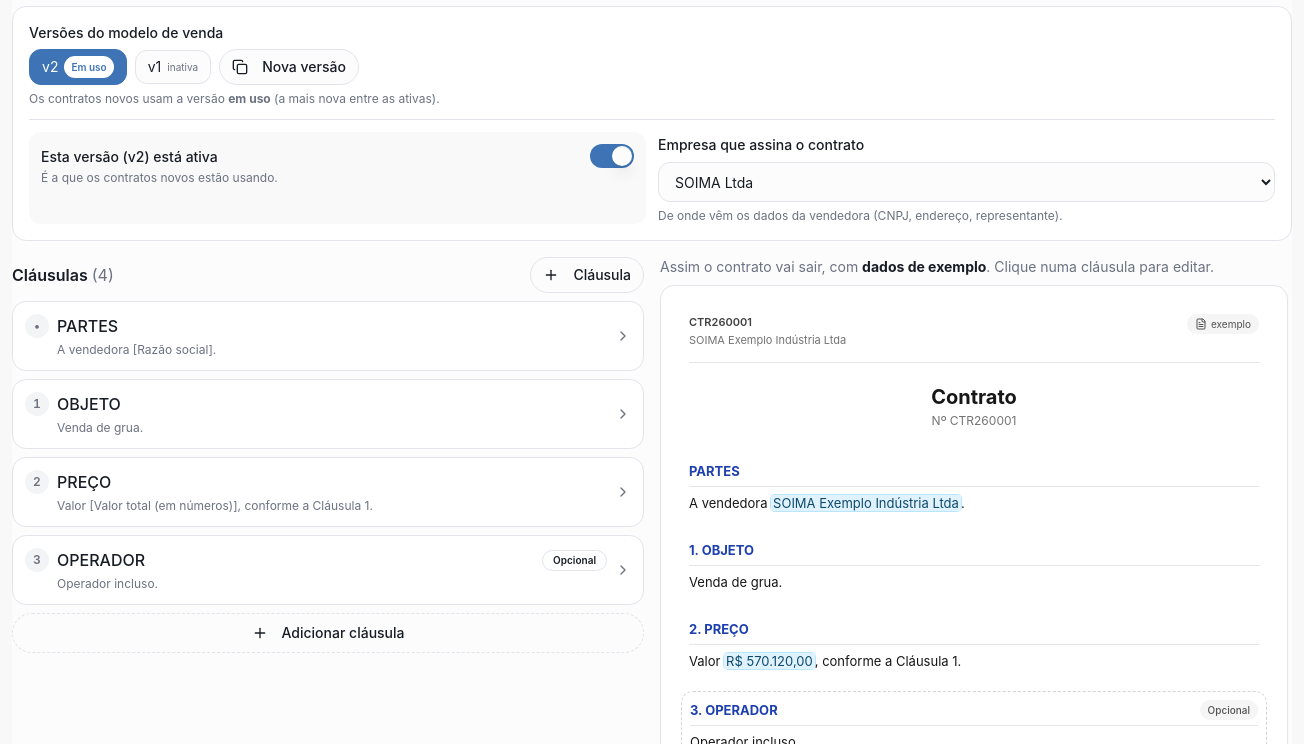
Test: editor do modelo — editar e salvar › mudar a ordem avisa sobre textos que citam cláusulas por número
The image size is (1304, 744).
Expected: the heading "Cláusulas (4)" is shown, [12, 263, 114, 287]
Step 1. Click the button with aria-label "Editar cláusula 1. OBJETO" → (89, 404), box [13, 380, 643, 448]
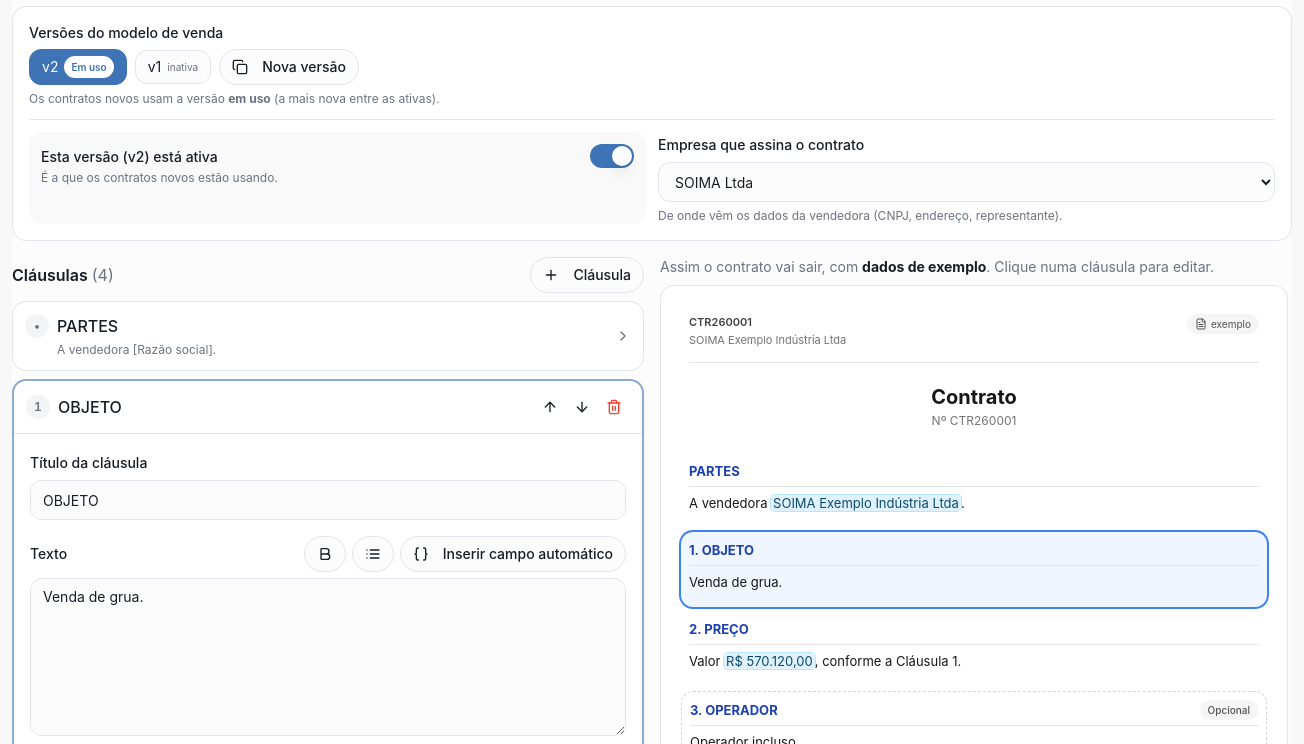
Step 2. Click the button named "Subir cláusula" → (550, 407), box [534, 391, 566, 423]
(page scrolled)
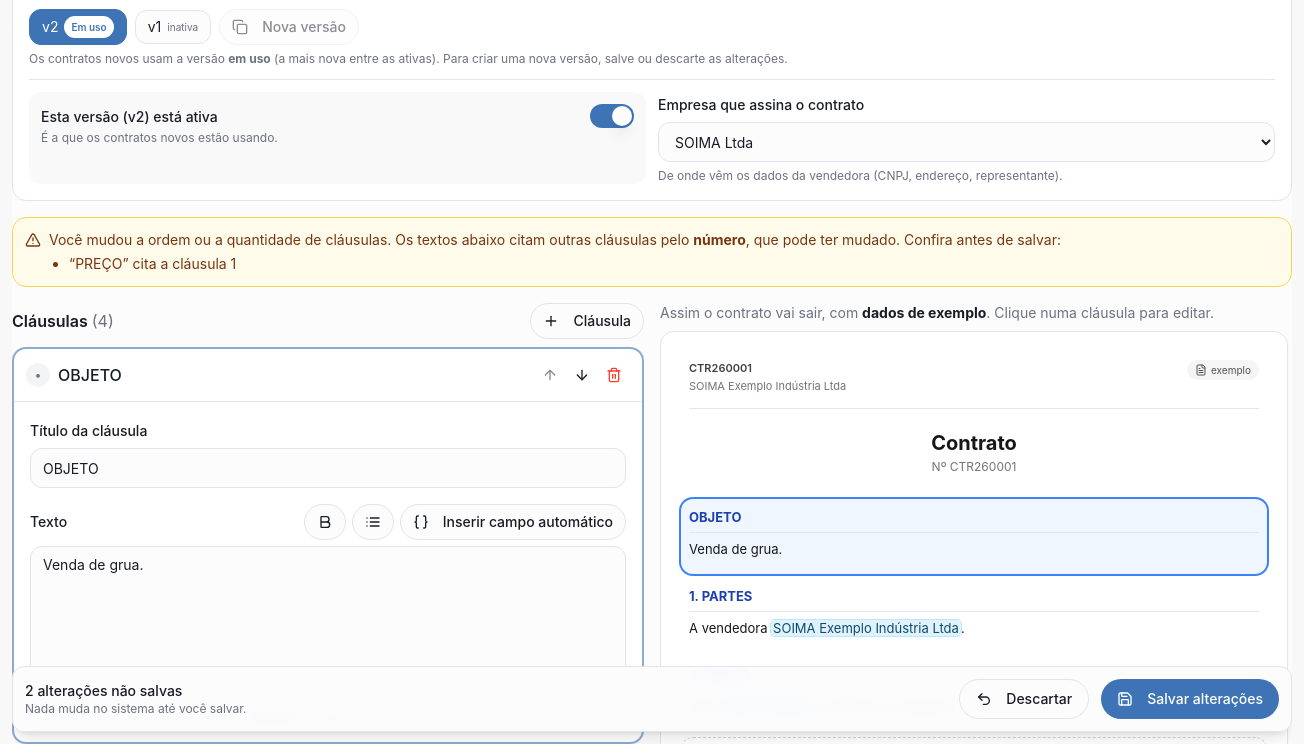
Result: the text "citam outras cláusulas pelo" shows "“PREÇO” cita a cláusula 1" at [12, 217, 1292, 287]
